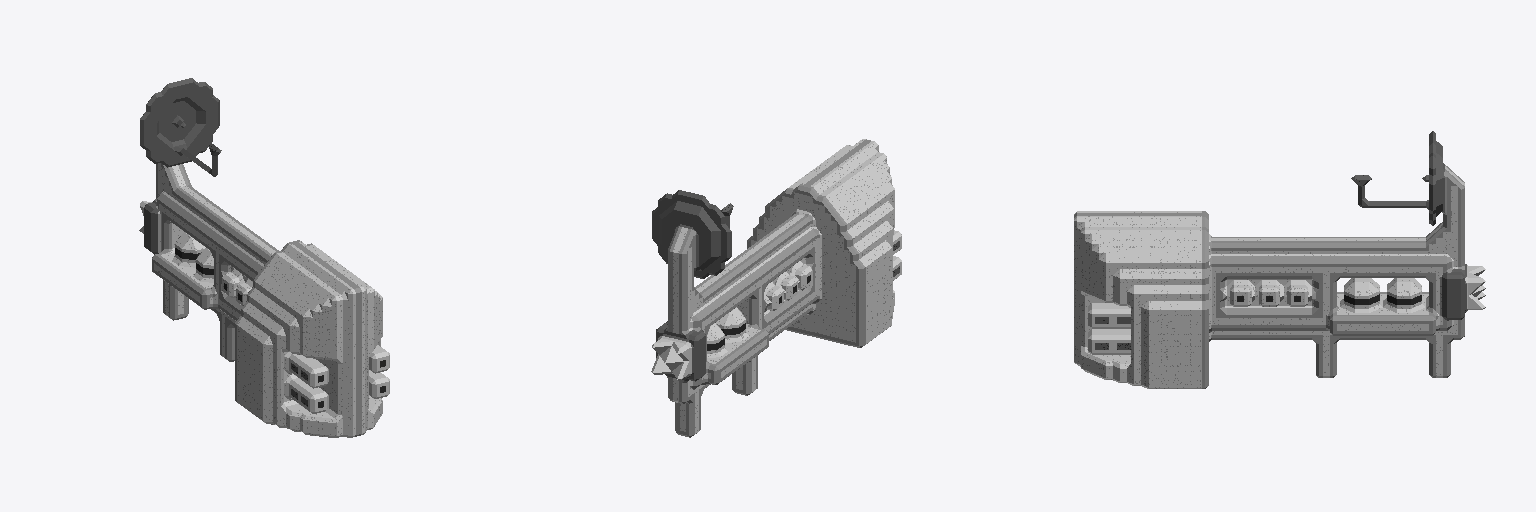
3 views of the same model, side by side, from view 1: azimuth 30°, elevation 25°; view 2: azimuth 150°, elevation 25°; view 3: azimuth 270°, elevation 25° (orthographic).
Bounding box in the file's own units: 19 × 37 × 58.
Materials: 1 (1 with a texture image).